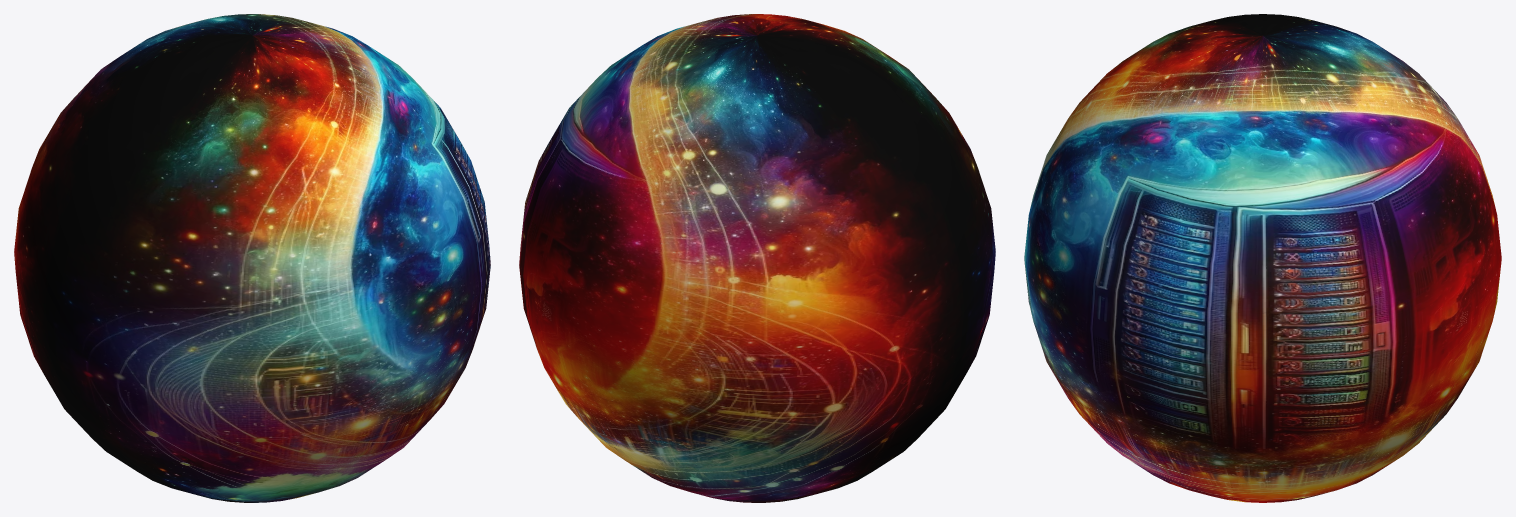
Rendered from bouncyball.glb.
3 renders of one model, left to right at view 1: azimuth 30°, elevation 25°; view 2: azimuth 150°, elevation 25°; view 3: azimuth 270°, elevation 25°, orthographic.
Parts seen in each view (by area): view 1: Sphere; view 2: Sphere; view 3: Sphere.
Part boxes in pixels (x1,y1,x2,y2): Sphere: (14,14,490,502); Sphere: (519,14,995,502); Sphere: (1024,14,1501,502).
Size of what is drawn, in the model's own units: 1.22 by 1.25 by 1.22.
1 material, 1 textured.
